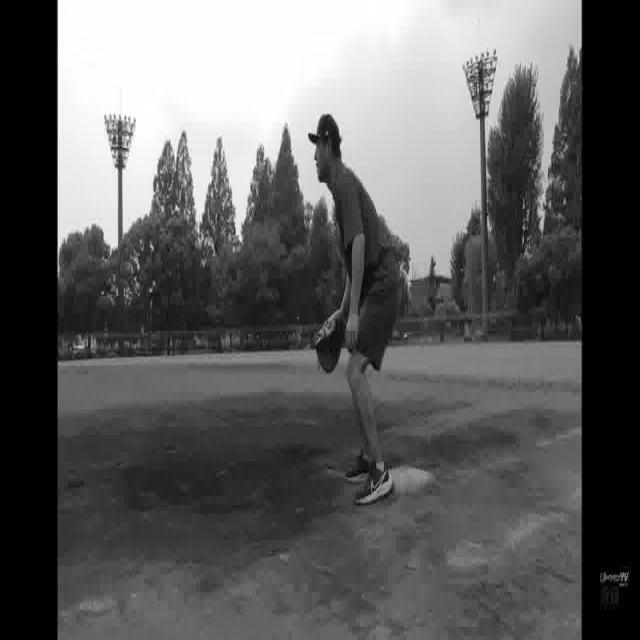base: (388, 465, 438, 497)
baseball_glove: (315, 309, 349, 377)
shoe: (355, 461, 391, 504), (346, 452, 376, 483)
